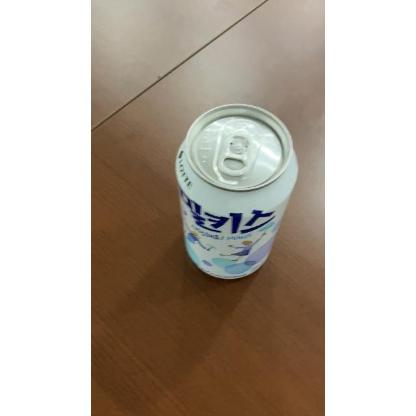Can: (175, 103, 301, 281)
